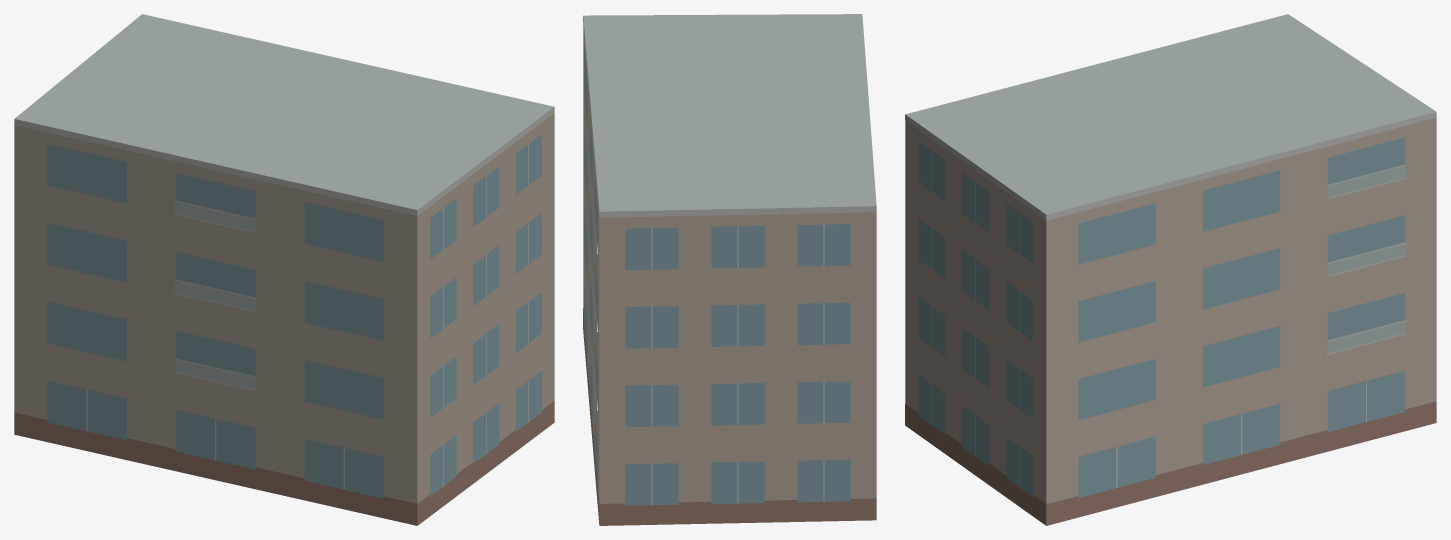
The model's file is survey-upis-32763430.glb.
The picture shows the model from 3 angles, left to right: view 1: azimuth 30°, elevation 25°; view 2: azimuth 150°, elevation 25°; view 3: azimuth 270°, elevation 25°; orthographic projection.
Parts seen in each view (by area): view 1: survey-upis-32763430.tmp; view 2: survey-upis-32763430.tmp; view 3: survey-upis-32763430.tmp.
Part boxes in pixels (x1,y1,x2,y2): survey-upis-32763430.tmp: [14, 14, 554, 525]; survey-upis-32763430.tmp: [583, 14, 876, 525]; survey-upis-32763430.tmp: [905, 14, 1436, 525].
Bounding box in the file's own units: 17.58 × 12.7 × 19.67.
